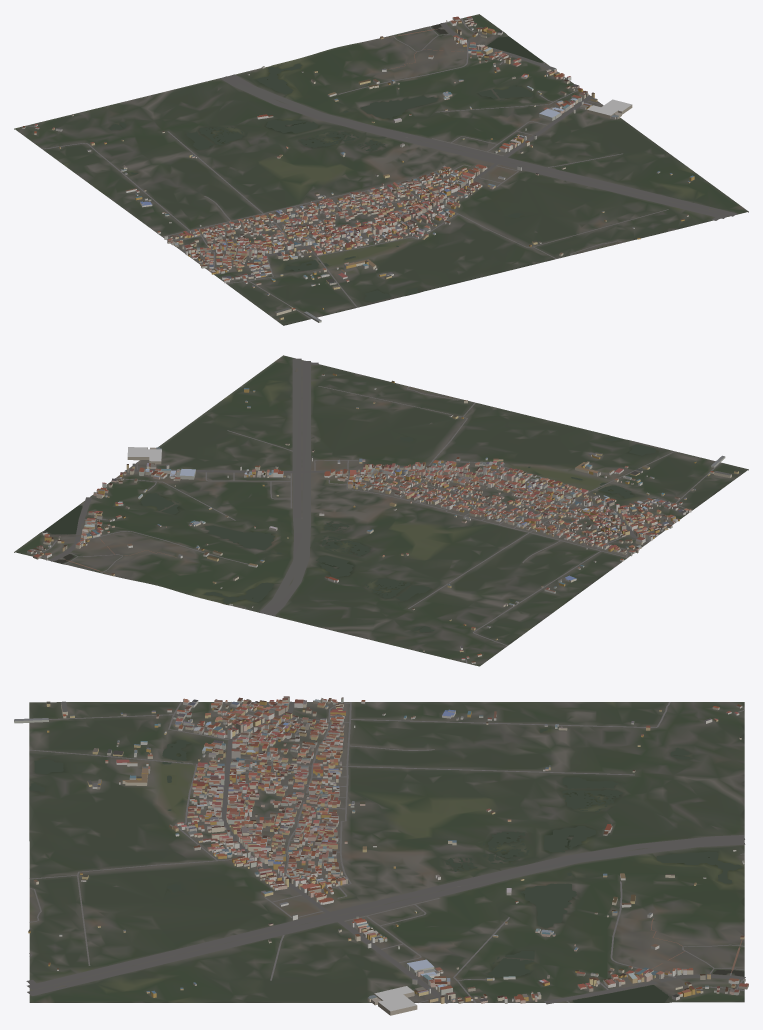
3 renders of one model, top to bottom at view 1: azimuth 30°, elevation 25°; view 2: azimuth 150°, elevation 25°; view 3: azimuth 270°, elevation 25°, orthographic. The views are drawn at different scales.
Visible parts, largest first — view 1: ground, buildings, roads, water; view 2: ground, buildings, roads, water; view 3: ground, buildings, roads, water.
Part boxes in pixels (x1,y1,x2,y2): ground: [14, 14, 748, 325]; buildings: [22, 16, 694, 322]; roads: [27, 18, 736, 318]; water: [109, 24, 542, 302]; ground: [14, 355, 748, 666]; buildings: [27, 373, 738, 663]; roads: [32, 358, 720, 663]; water: [45, 436, 656, 632]; ground: [29, 702, 744, 1002]; buildings: [14, 696, 748, 1015]; roads: [26, 701, 745, 1004]; water: [30, 729, 744, 1002].
Size of the model in its own units: 1464 by 22.63 by 1441.
